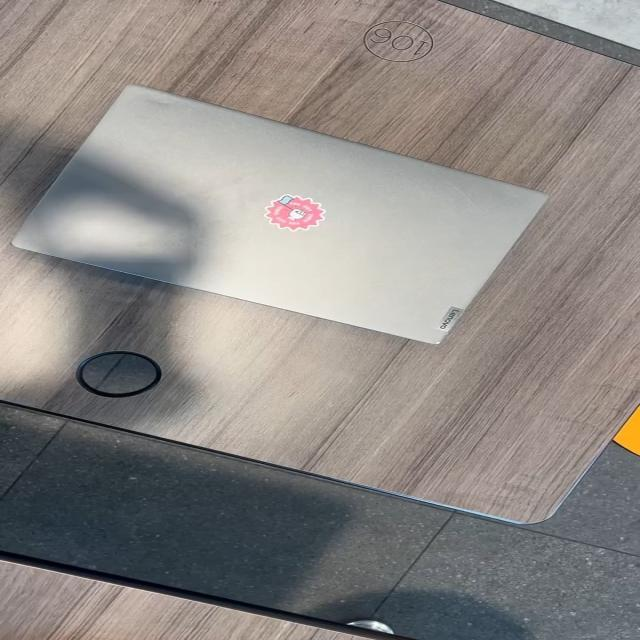laptop: (10, 82, 549, 346)
